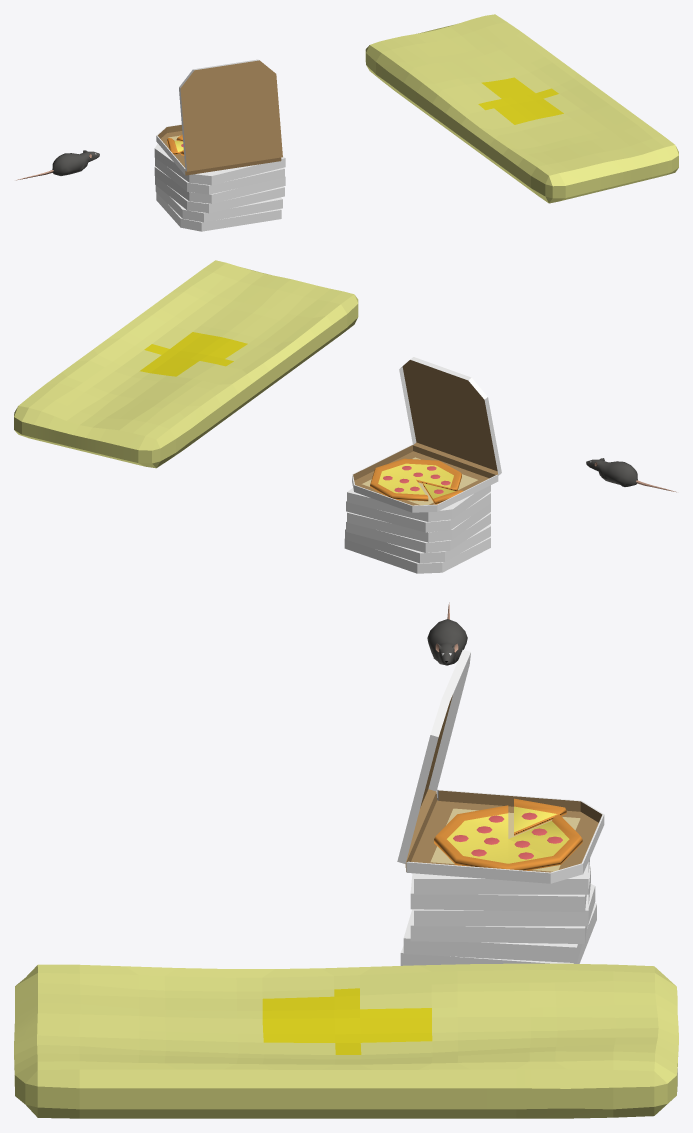
File: pizza.fbx
3 renders of one model, top to bottom at view 1: azimuth 30°, elevation 25°; view 2: azimuth 150°, elevation 25°; view 3: azimuth 270°, elevation 25°, orthographic. The views are drawn at different scales.
Visible parts, largest first — view 1: mattress001, Pizza, rat; view 2: mattress001, Pizza, rat; view 3: mattress001, Pizza, rat.
Part boxes in pixels (x1=…): mattress001: x1=365, y1=14, x2=678, y2=203; Pizza: x1=154, y1=59, x2=285, y2=231; rat: x1=16, y1=150, x2=99, y2=180; mattress001: x1=14, y1=260, x2=358, y2=468; Pizza: x1=344, y1=357, x2=501, y2=573; rat: x1=586, y1=458, x2=676, y2=492; mattress001: x1=14, y1=963, x2=678, y2=1118; Pizza: x1=397, y1=649, x2=604, y2=965; rat: x1=427, y1=602, x2=467, y2=665.
Size of the model in its own units: 7531 by 2003 by 4622.
